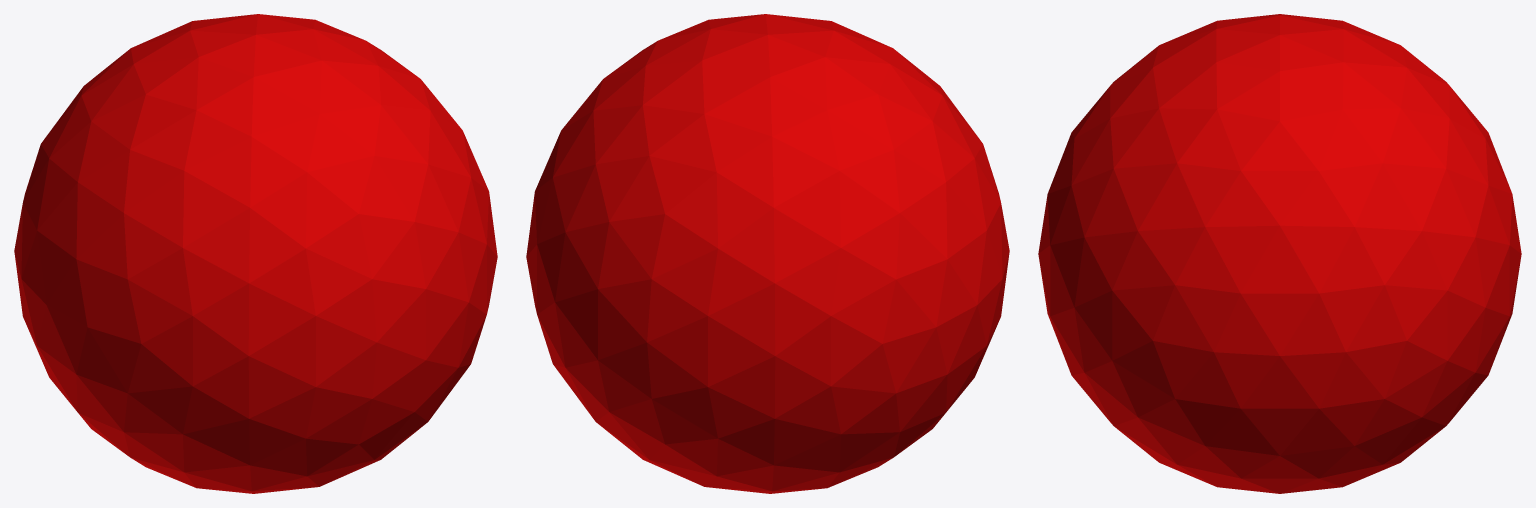
3 renders of one model, left to right at view 1: azimuth 30°, elevation 25°; view 2: azimuth 150°, elevation 25°; view 3: azimuth 270°, elevation 25°, orthographic.
Visible parts, largest first — view 1: world; view 2: world; view 3: world.
Part boxes in pixels (x1=…): world: x1=14, y1=14, x2=497, y2=493; world: x1=526, y1=14, x2=1009, y2=493; world: x1=1038, y1=14, x2=1521, y2=493.
Bounding box in the file's own units: 0.36 × 0.36 × 0.36.
